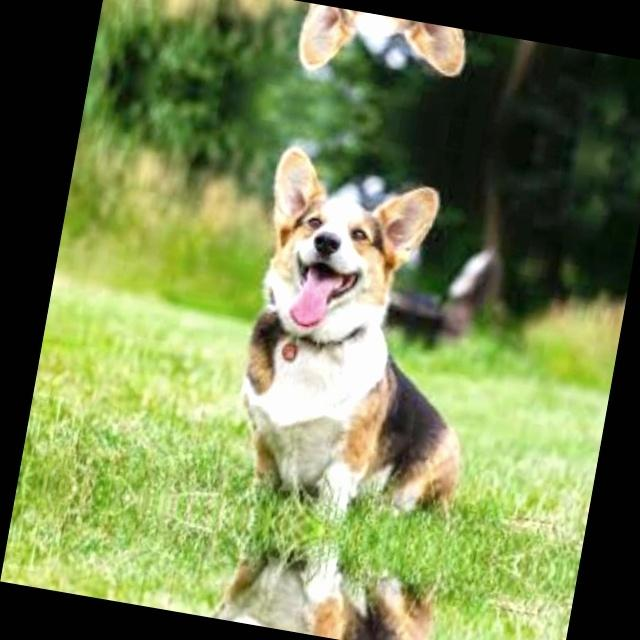dog: (206, 125, 524, 532), (278, 0, 546, 122), (182, 531, 452, 640)
